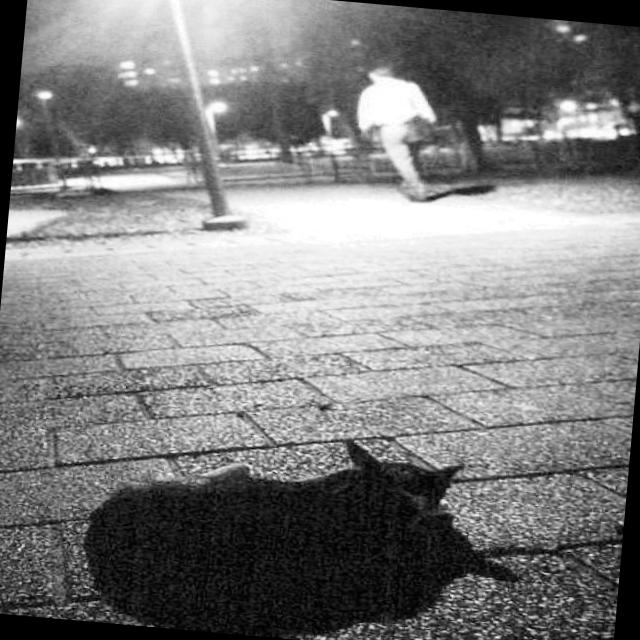Cat: (83, 411, 512, 640)
Person: (347, 58, 452, 204)
